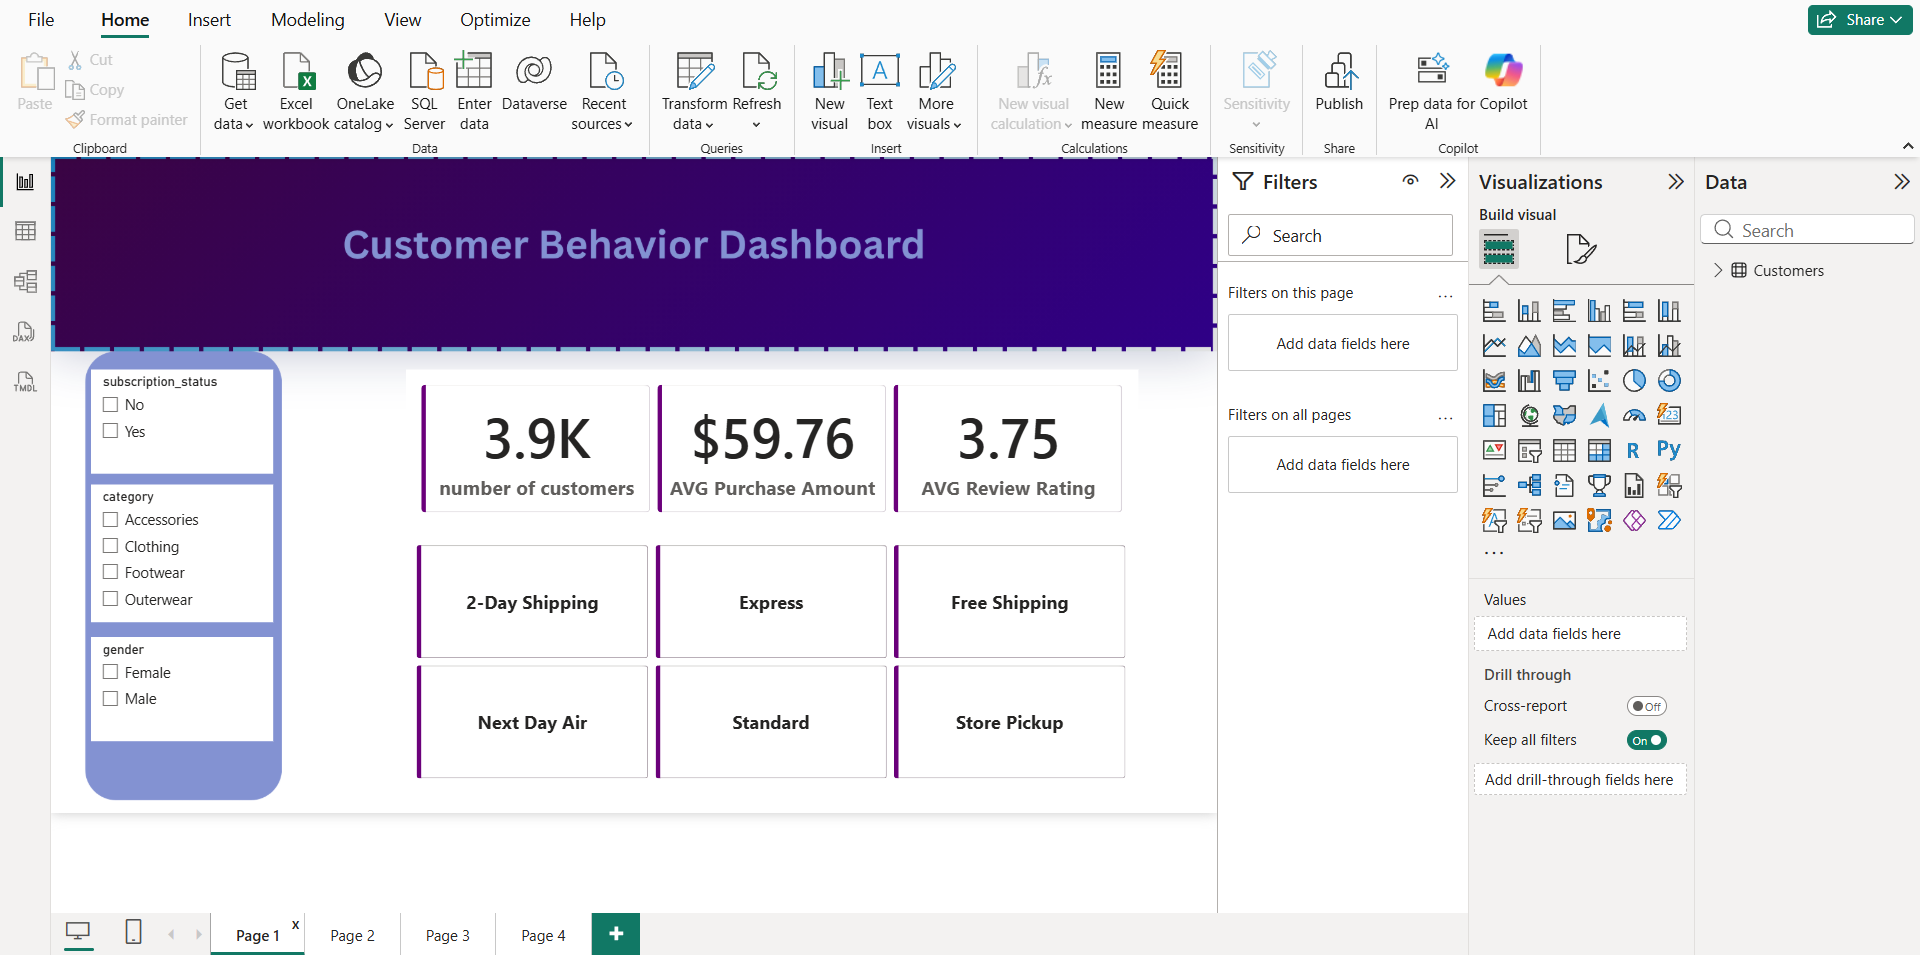

What the dashboard file says about the page in this screenshot:
{"tool":"powerbi","page":{"name":"Page 1","canvas":[1280,720],"ordinal":0},"visuals":[{"type":"cardVisual","fields":{"Data":["Customers.number of customers","Customers.AVG Purchase Amount","Customers.AVG Review Rating"]},"box":[390,232.9,804.3,174.3],"z":0},{"type":"slicer","fields":{"Values":["Customers.subscription_status"]},"box":[44.3,232.9,200,114.3],"z":1000},{"type":"slicer","fields":{"Values":["Customers.category"]},"box":[44.3,360,200,151.4],"z":2000},{"type":"slicer","fields":{"Values":["Customers.gender"]},"box":[44.3,527.1,200,114.3],"z":3000},{"type":"advancedSlicerVisual","fields":{"Values":["Customers.shipping_type"]},"box":[397.1,421.4,788.6,267.1],"z":4000}]}

Visuals, with their boxes on the page's 1280x720 design canvas (x1, y1, x2, y2). These are canvas units, not pixel positions in the 1920x955 screenshot, which may show the page scaled, cropped or inside an application window:
cardVisual - Customers.number of customers x Customers.AVG Purchase Amount: [390, 233, 1194, 407]
slicer - Customers.subscription_status: [44, 233, 244, 347]
slicer - Customers.category: [44, 360, 244, 511]
slicer - Customers.gender: [44, 527, 244, 641]
advancedSlicerVisual - Customers.shipping_type: [397, 421, 1186, 688]
